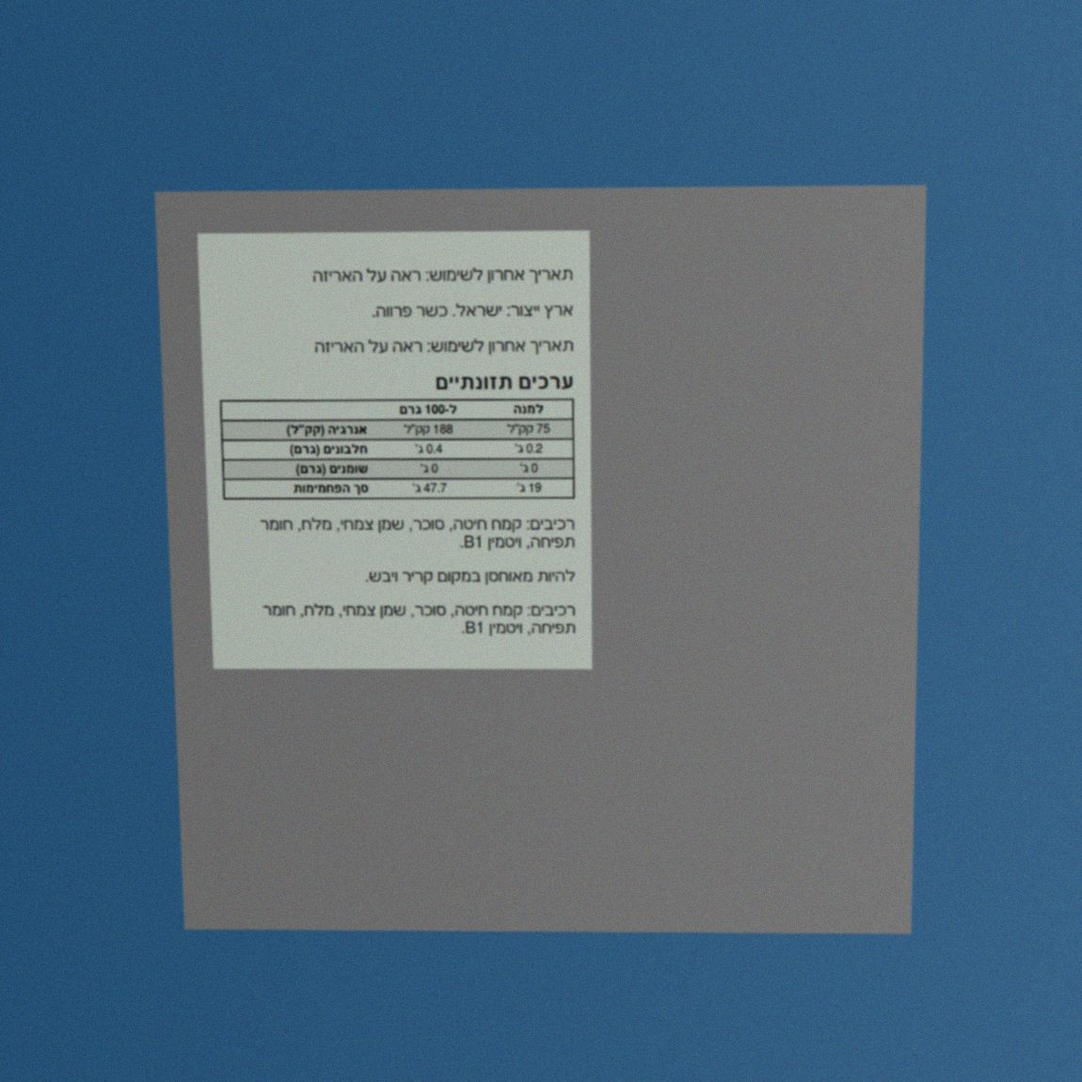carbs: (411, 481, 448, 496)
energy: (402, 422, 455, 437)
fat: (419, 461, 440, 476)
protein: (414, 442, 444, 457)
